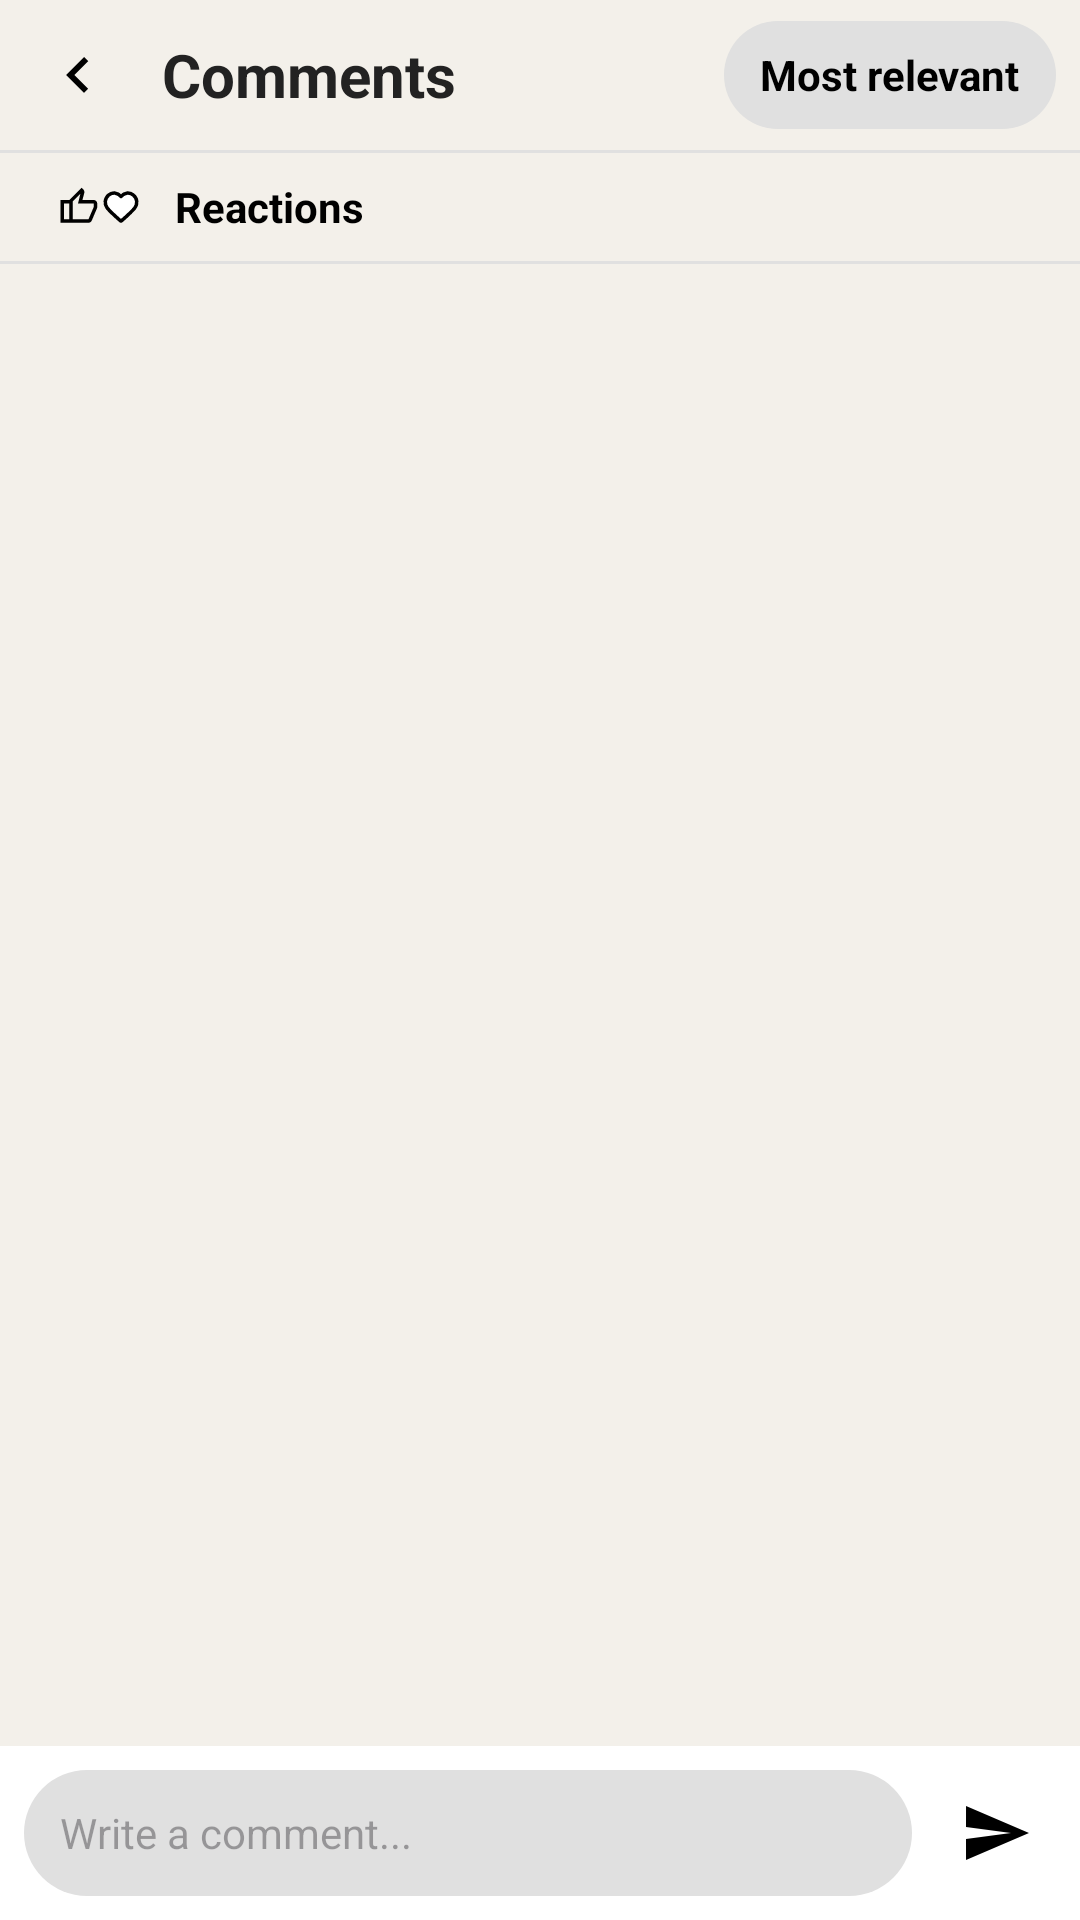

Screen size 1080x1920. Icon name, then its center in pixels as (x=x, y=y):
Back: (x=77, y=75)
heart: (x=121, y=207)
like: (x=79, y=205)
Send: (x=997, y=1833)
